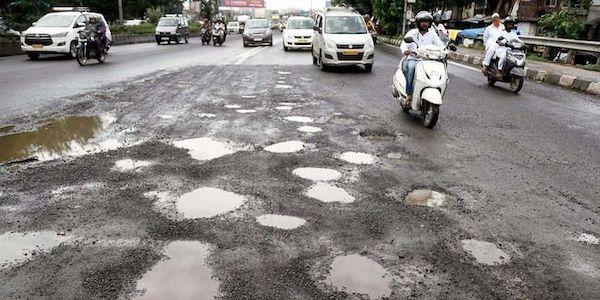Pothole: (228, 53, 453, 220), (0, 106, 147, 175), (278, 231, 416, 300), (135, 100, 263, 172), (126, 227, 250, 300), (0, 198, 106, 282), (439, 228, 560, 292), (140, 174, 252, 229), (242, 201, 315, 239), (565, 195, 600, 243)
